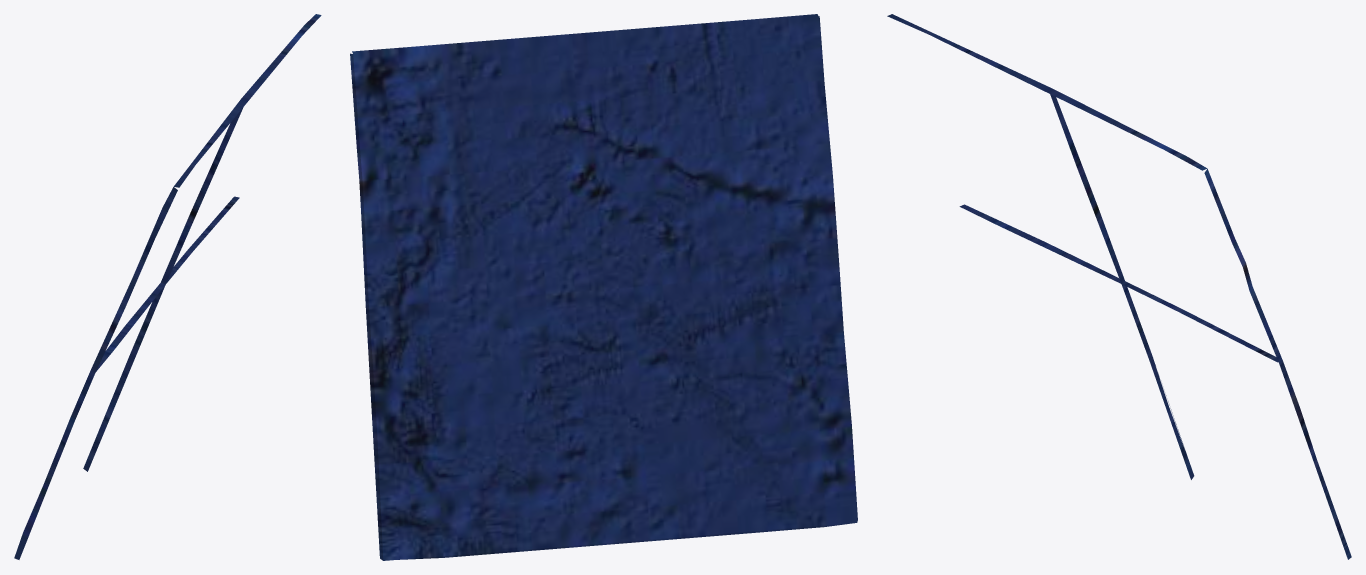
3 views of the same model, side by side, from view 1: azimuth 30°, elevation 25°; view 2: azimuth 150°, elevation 25°; view 3: azimuth 270°, elevation 25° (orthographic). The views are drawn at different scales.
Size of the model in its own units: 299117 by 295244 by 280530.
1 material, 1 textured.
